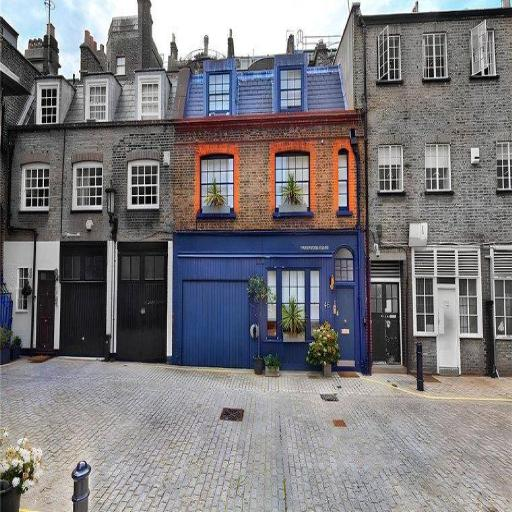door: (327, 276, 360, 375)
